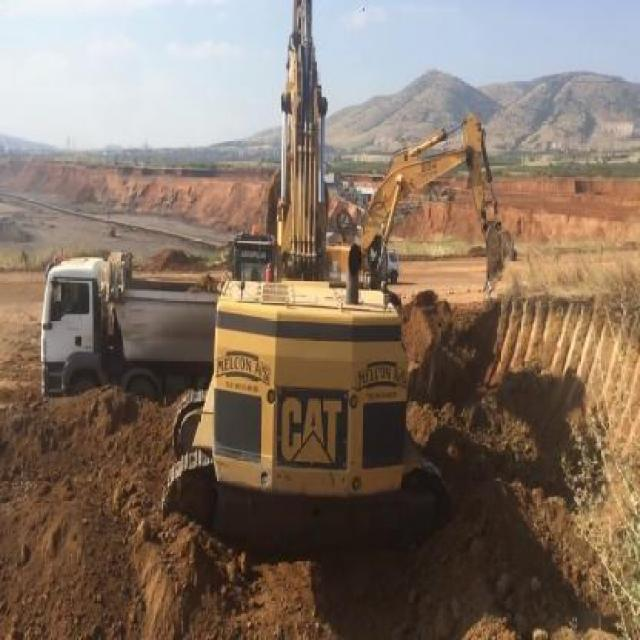Dump Truck: (38, 249, 214, 405)
Excavator: (158, 0, 450, 546), (330, 113, 512, 290)
